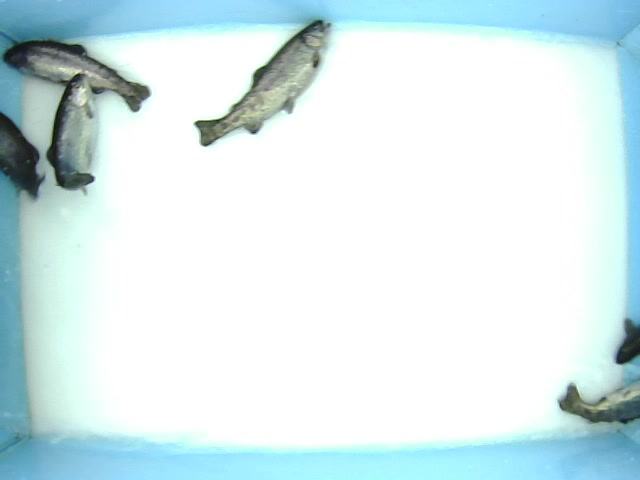fish: (191, 18, 333, 149), (1, 37, 151, 113), (44, 70, 100, 197)
